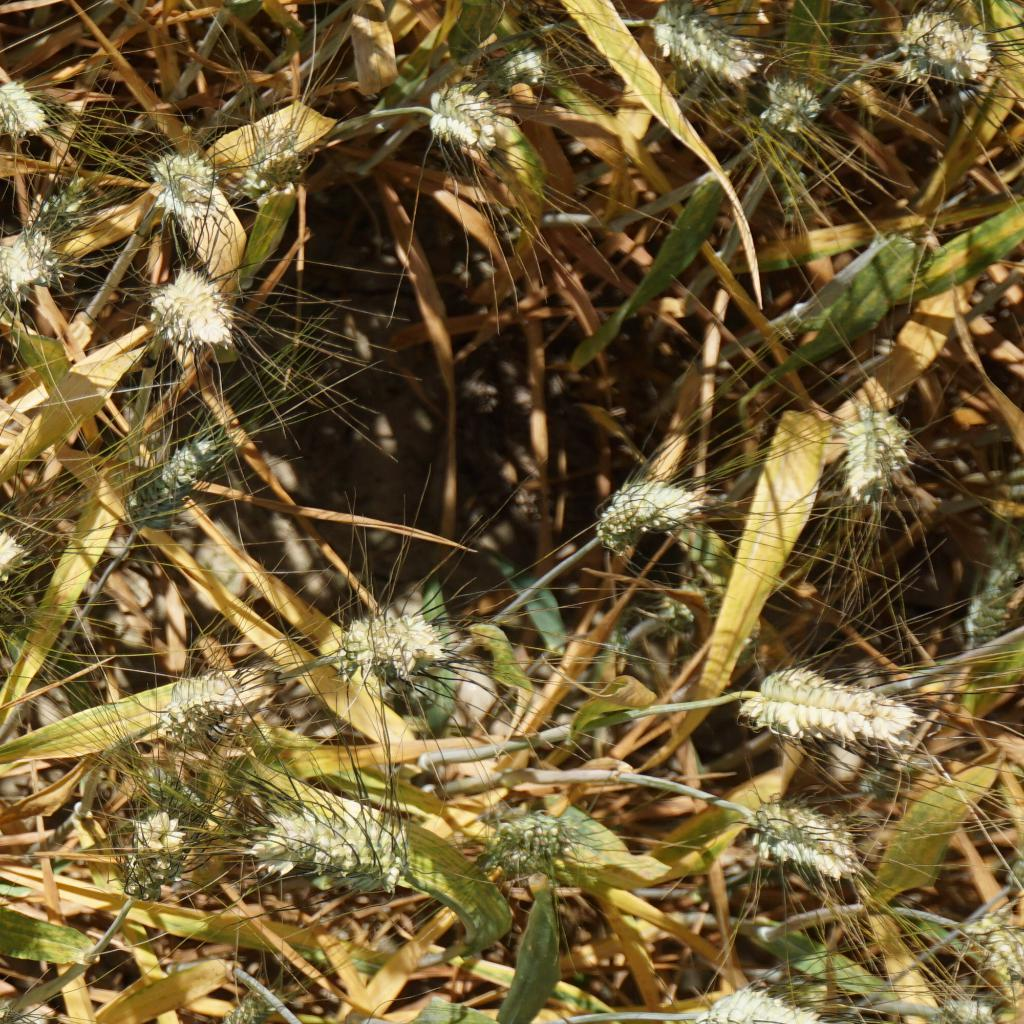0-0: (265, 804, 412, 896), (739, 674, 907, 751), (314, 603, 462, 687), (123, 428, 226, 531), (583, 482, 715, 551), (743, 796, 857, 871), (656, 8, 766, 80), (150, 666, 254, 740), (687, 972, 827, 1024), (419, 82, 510, 160), (136, 751, 220, 832), (150, 261, 234, 341), (120, 802, 187, 901), (897, 15, 992, 83), (840, 403, 912, 490), (224, 115, 303, 190), (144, 142, 220, 217), (493, 800, 580, 859), (956, 559, 1024, 633), (956, 905, 1024, 970), (28, 169, 98, 230), (0, 220, 54, 291), (499, 35, 561, 88), (0, 68, 47, 132), (763, 82, 824, 126), (928, 991, 1009, 1024), (220, 981, 275, 1024), (0, 528, 29, 607), (0, 982, 12, 1024)
